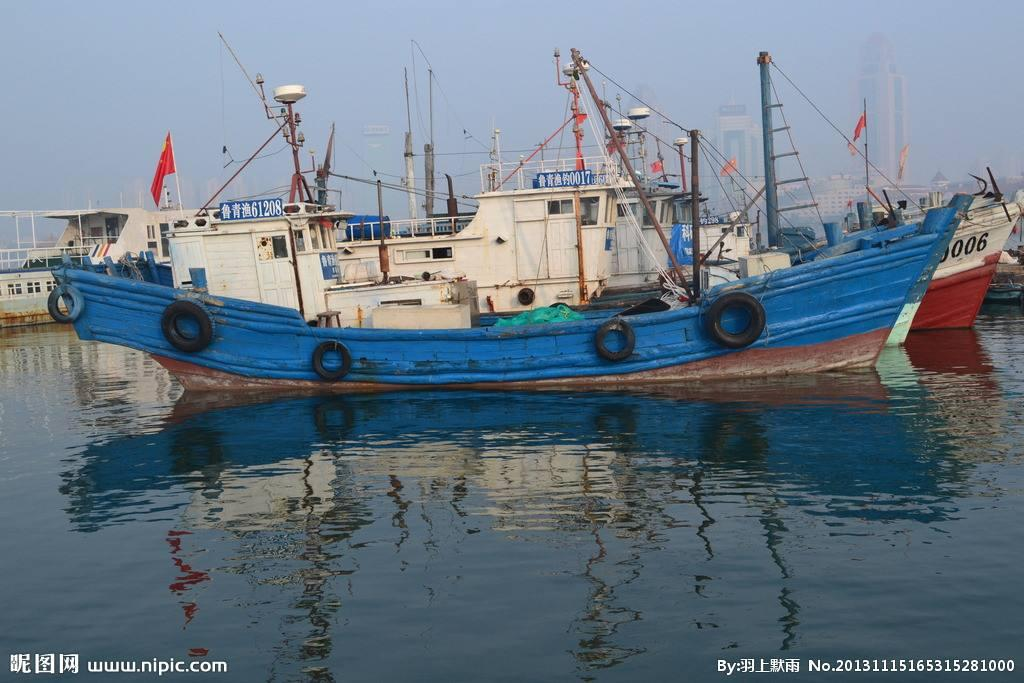otherboat: (50, 31, 969, 412)
